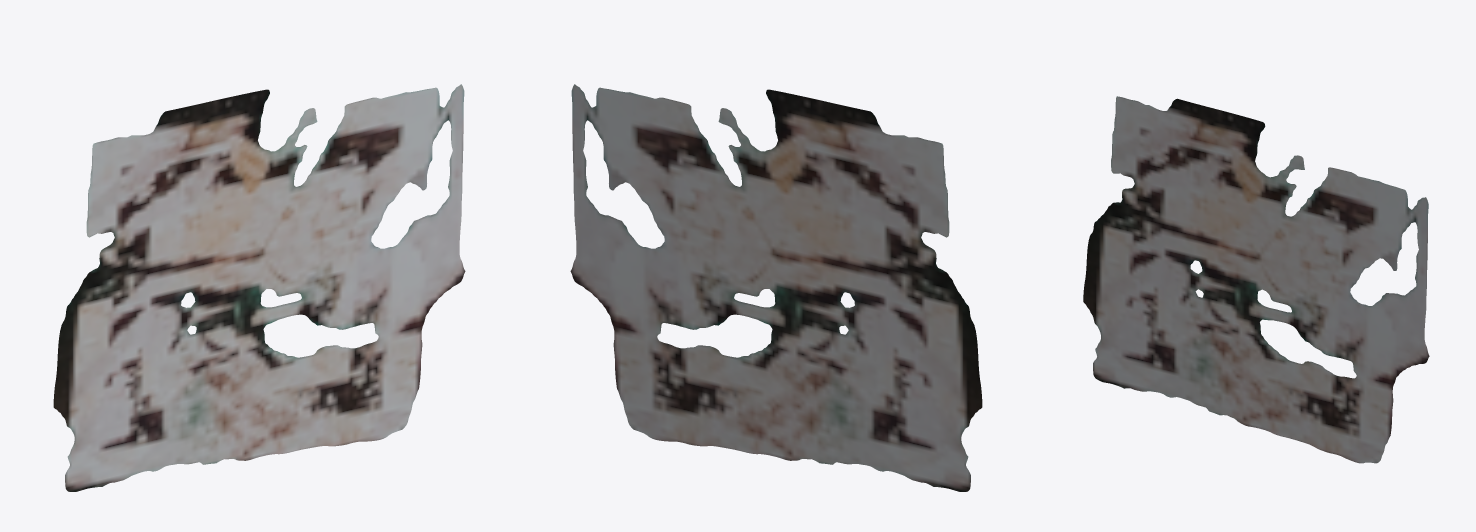
File: Sticker_17.fbx
3 renders of one model, left to right at view 1: azimuth 30°, elevation 25°; view 2: azimuth 150°, elevation 25°; view 3: azimuth 330°, elevation 25°, orthographic. The views are drawn at different scales.
Parts seen in each view (by area): view 1: Sticker_17; view 2: Sticker_17; view 3: Sticker_17.
Boxes of the visible parts, x1,y1,x2,y2 form: Sticker_17: (53,84,465,491); Sticker_17: (570,84,982,491); Sticker_17: (1083,96,1429,463).
Bounding box in the file's own units: 0.2263 × 0.2228 × 9.74e-09.
